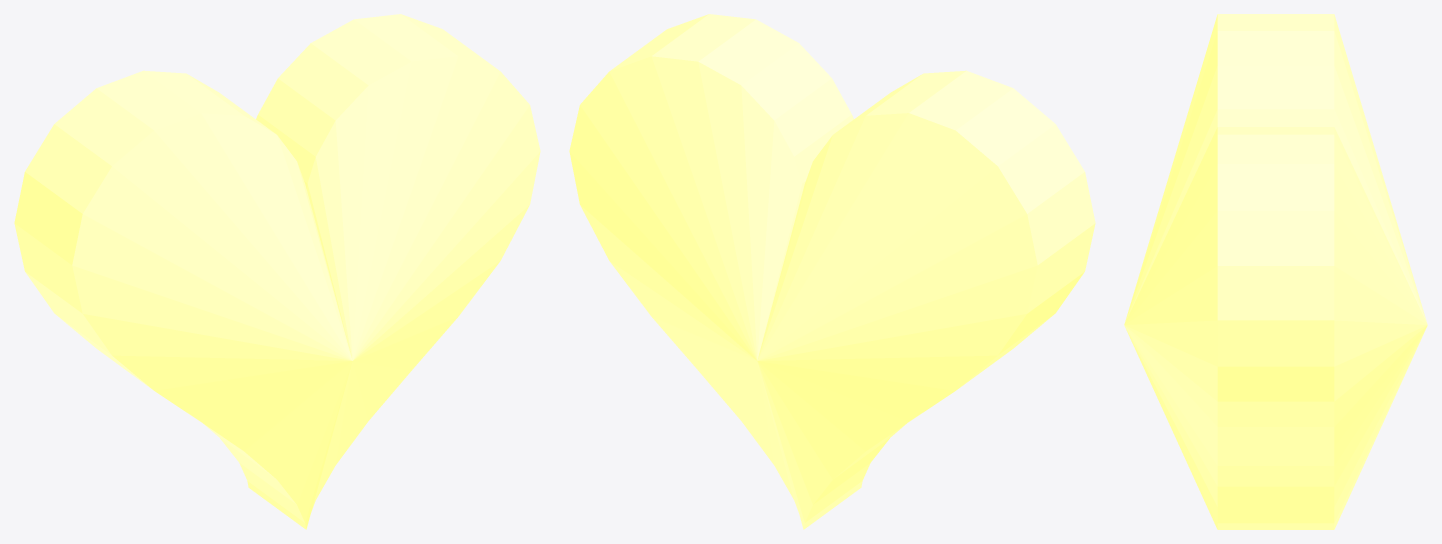
The model's file is HeartOfEternity.fbx.
3 renders of one model, left to right at view 1: azimuth 30°, elevation 25°; view 2: azimuth 150°, elevation 25°; view 3: azimuth 270°, elevation 25°, orthographic.
Parts seen in each view (by area): view 1: HeartOfEternity; view 2: HeartOfEternity; view 3: HeartOfEternity.
Boxes of the visible parts, x1=… form: HeartOfEternity: x1=14, y1=14, x2=540, y2=529; HeartOfEternity: x1=569, y1=14, x2=1095, y2=529; HeartOfEternity: x1=1124, y1=14, x2=1427, y2=529.
Bounding box in the file's own units: 0.8421 × 0.7604 × 0.468.
